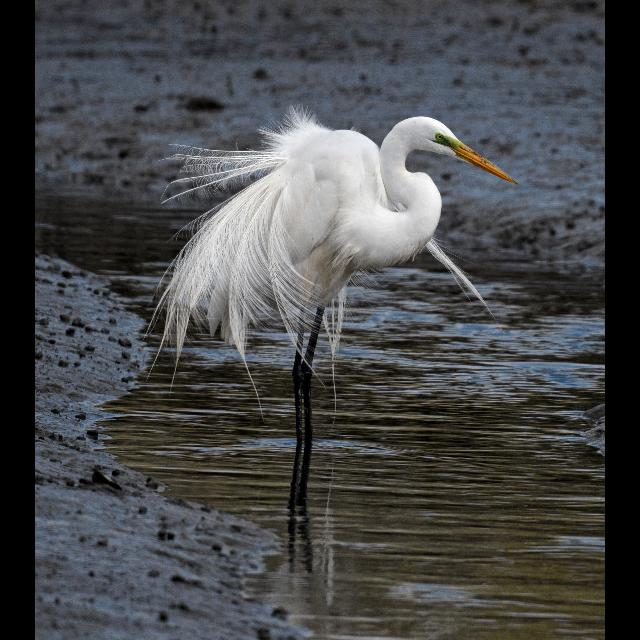egret: (168, 115, 520, 475)
